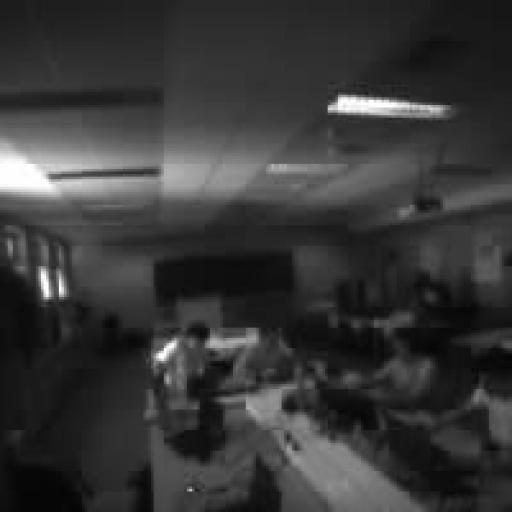human: (428, 364, 511, 463), (346, 328, 435, 407), (154, 323, 209, 396), (233, 331, 294, 383)
